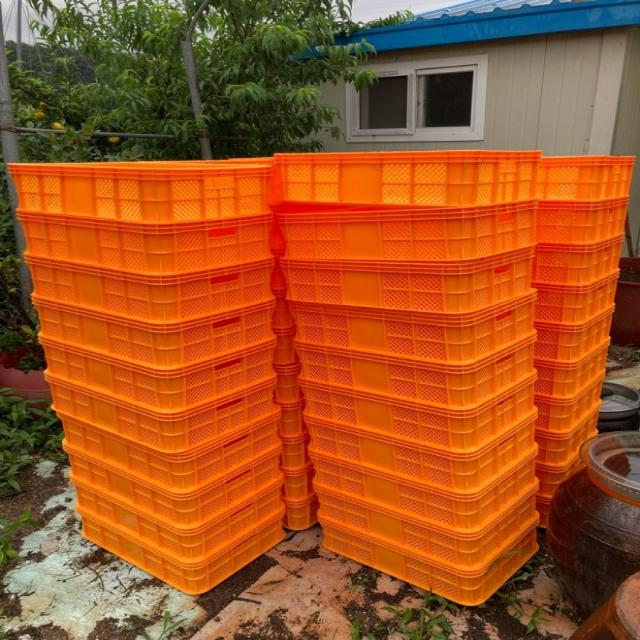basket: (315, 473, 542, 579), (319, 511, 542, 610), (290, 290, 539, 370), (68, 472, 284, 564), (310, 444, 537, 531), (44, 372, 278, 455), (57, 406, 280, 492), (305, 411, 537, 493), (77, 505, 285, 596), (39, 335, 274, 414), (300, 373, 535, 450), (65, 445, 282, 528), (295, 335, 535, 410), (6, 158, 271, 225), (281, 247, 535, 315), (24, 255, 274, 324), (32, 297, 273, 367), (16, 210, 273, 275), (278, 200, 539, 264), (274, 148, 541, 207), (510, 439, 590, 529), (528, 305, 624, 370), (529, 340, 621, 405), (530, 235, 628, 290), (531, 375, 611, 437), (533, 272, 622, 327), (537, 197, 631, 245), (534, 408, 605, 469), (539, 156, 636, 200), (284, 494, 319, 532), (272, 362, 302, 404), (275, 399, 306, 439), (280, 432, 311, 471), (283, 465, 315, 501), (270, 327, 299, 366), (269, 296, 295, 330)
